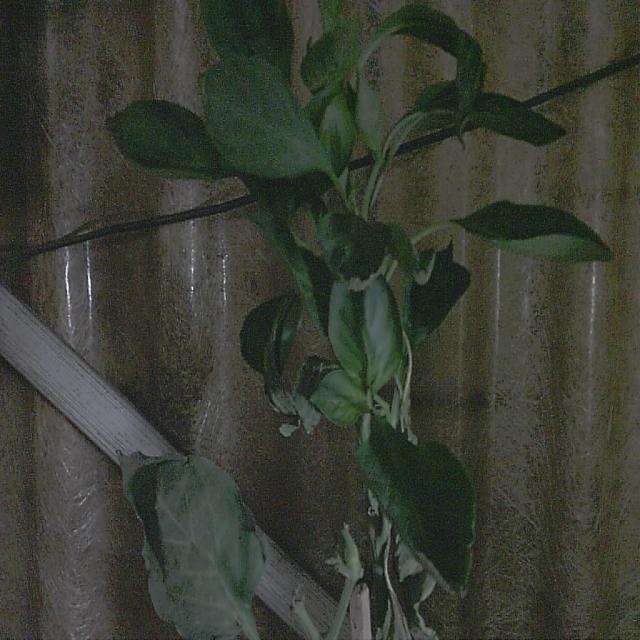Leaf: (115, 445, 264, 639), (356, 418, 477, 604), (198, 57, 320, 177)
